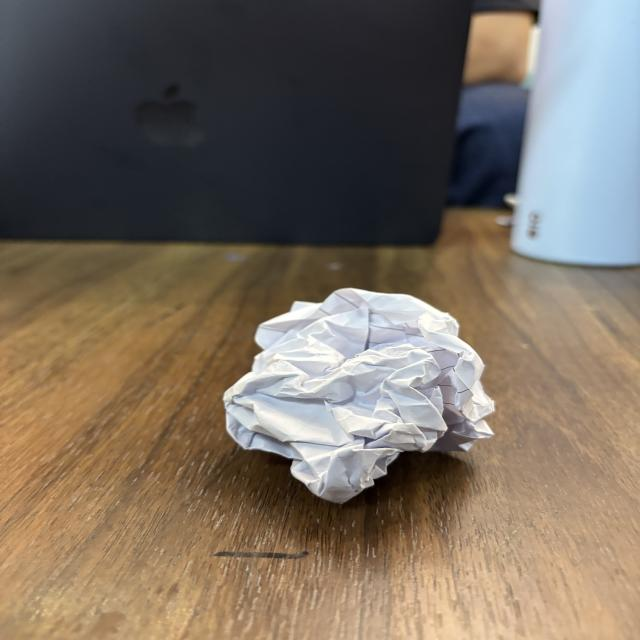crumpled_paper: (214, 279, 506, 515)
